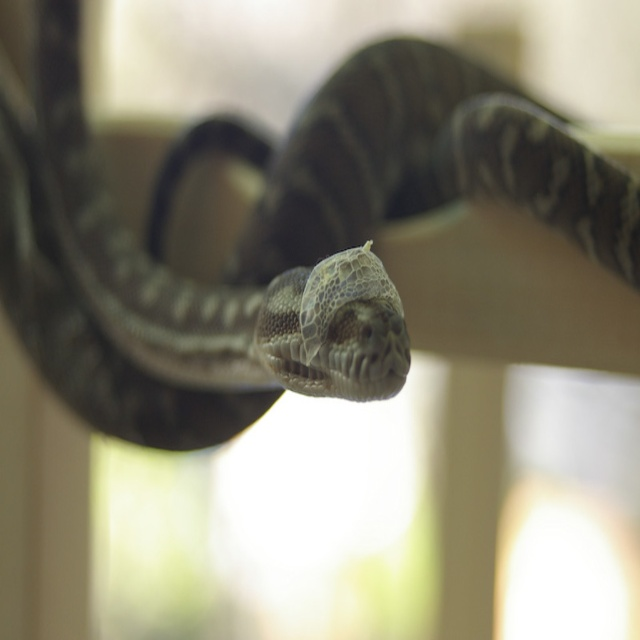Snake: (0, 36, 639, 448)
